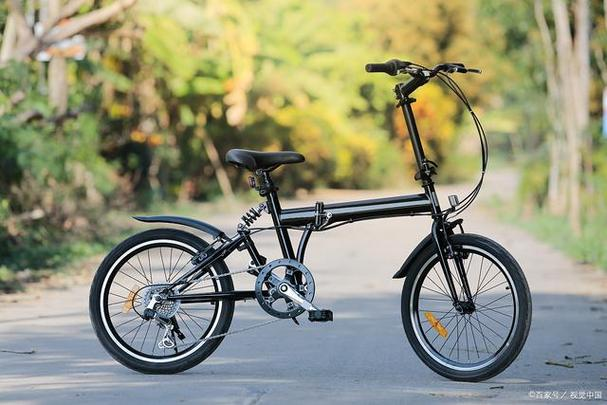单车: (67, 54, 550, 383)
